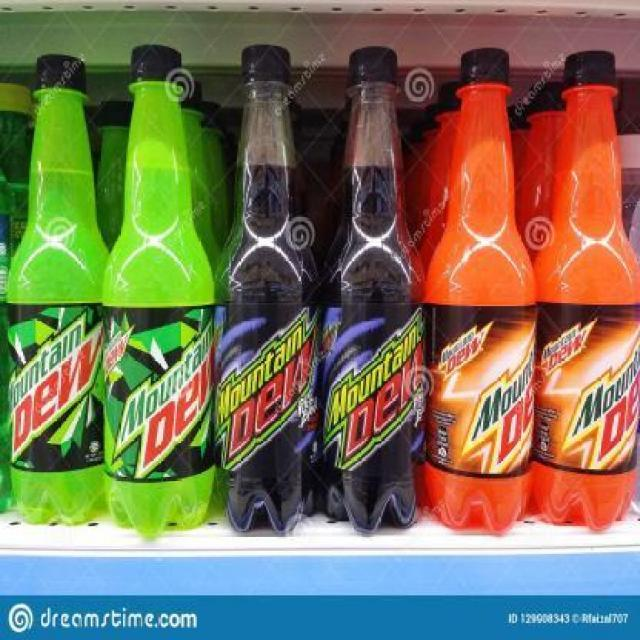Drinks: (424, 49, 538, 537), (102, 45, 213, 541), (212, 46, 323, 537), (322, 47, 425, 535), (539, 50, 639, 533), (5, 52, 103, 528)
